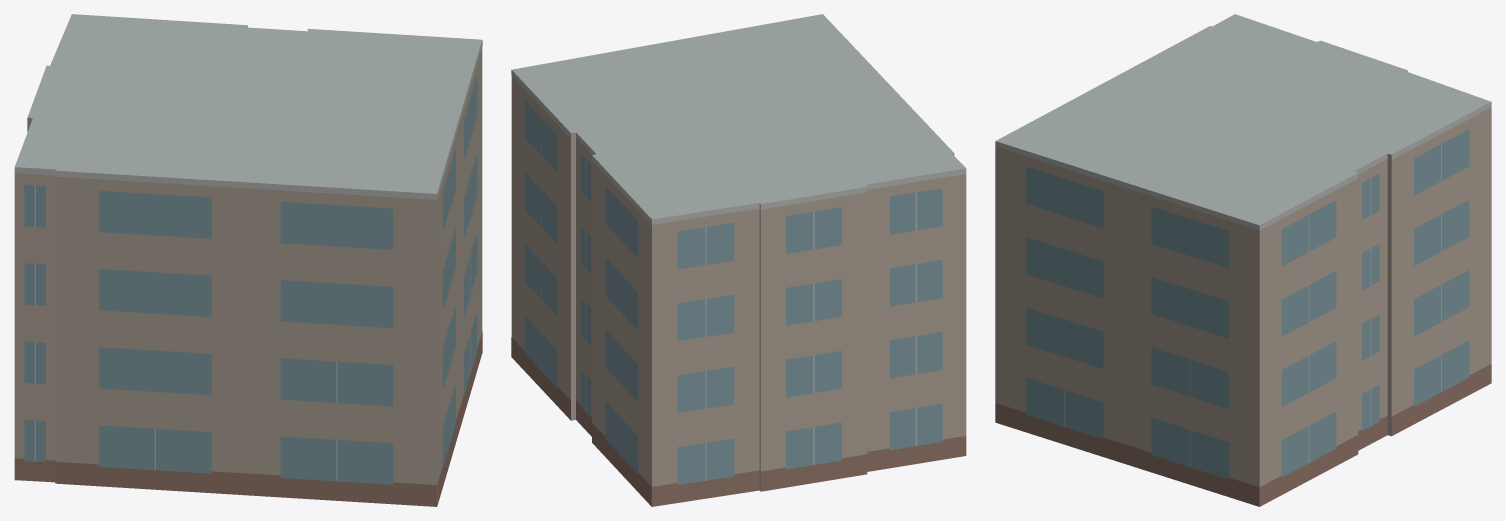
File: survey-upis-32948378.glb
The picture shows the model from 3 angles, left to right: view 1: azimuth 30°, elevation 25°; view 2: azimuth 150°, elevation 25°; view 3: azimuth 270°, elevation 25°; orthographic projection. The views are drawn at different scales.
Visible parts, largest first — view 1: survey-upis-32948378.tmp; view 2: survey-upis-32948378.tmp; view 3: survey-upis-32948378.tmp.
Part boxes in pixels (x1,y1,x2,y2): survey-upis-32948378.tmp: (14,14,482,506); survey-upis-32948378.tmp: (511,14,966,506); survey-upis-32948378.tmp: (995,14,1491,506).
Size of the model in its own units: 20.54 by 12.75 by 20.37.
